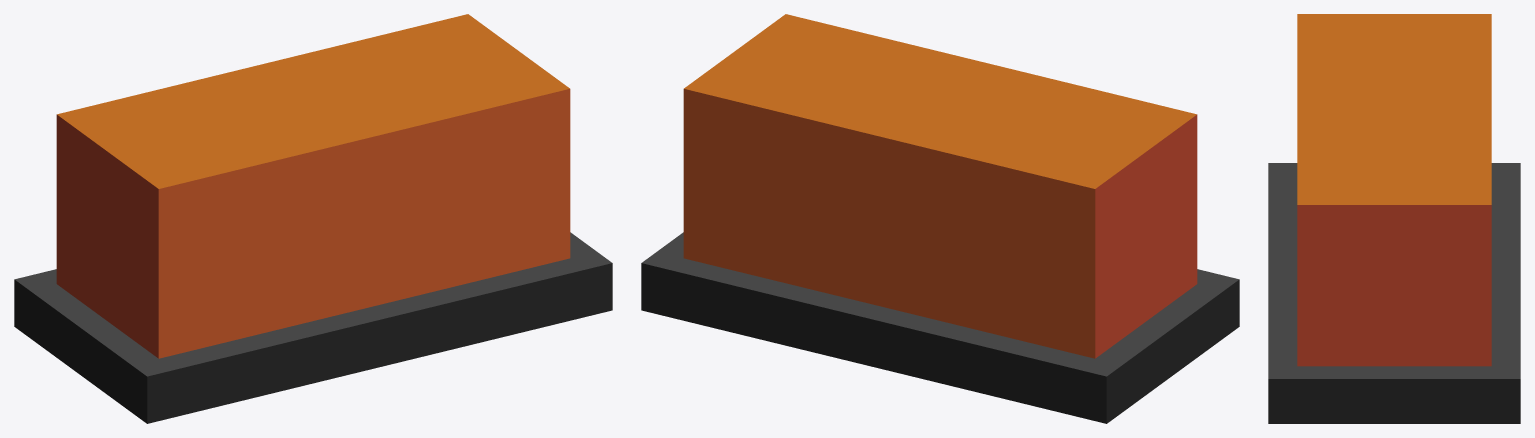
Rendered from TB_CITY_Env_Bush_D.FBX.
3 views of the same model, side by side, from view 1: azimuth 30°, elevation 25°; view 2: azimuth 150°, elevation 25°; view 3: azimuth 270°, elevation 25° (orthographic). The views are drawn at different scales.
Visible parts, largest first — view 1: TB_CITY_Env_Bush_D; view 2: TB_CITY_Env_Bush_D; view 3: TB_CITY_Env_Bush_D.
Part boxes in pixels (<box>): TB_CITY_Env_Bush_D: <box>14,14,612,423</box>; TB_CITY_Env_Bush_D: <box>641,14,1239,423</box>; TB_CITY_Env_Bush_D: <box>1268,14,1520,423</box>.
Bounding box in the file's own units: 3.1 × 1.38 × 1.53.
